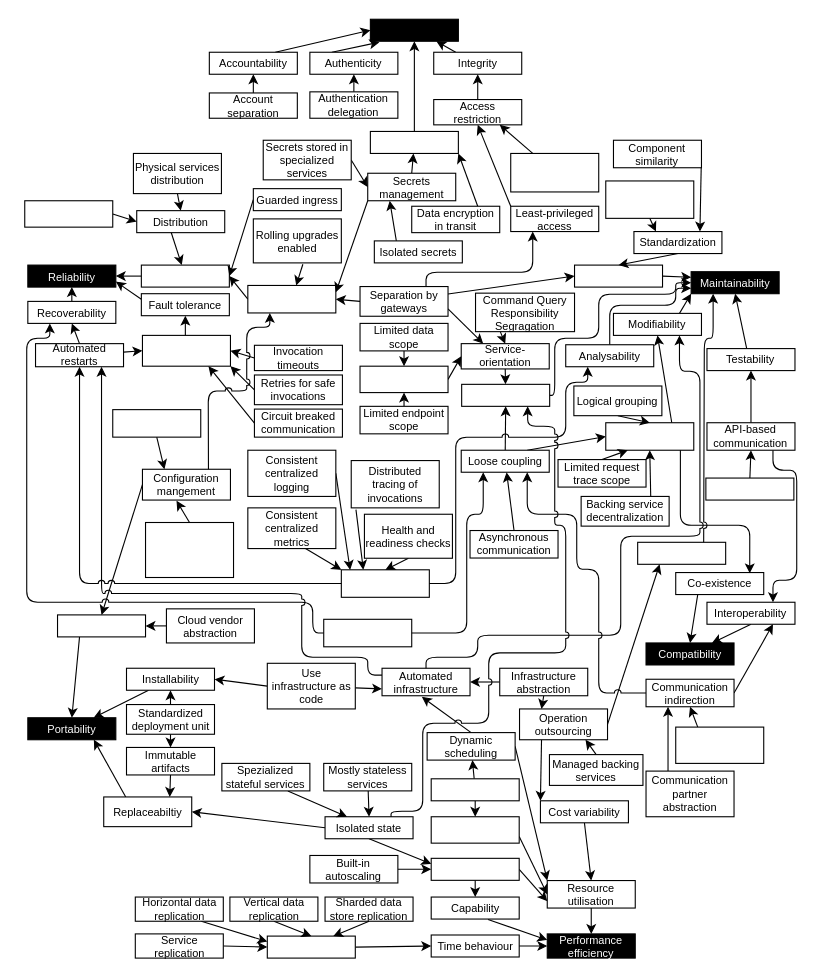
This 825x978 diagram has some shape labels left out. The box of each missing label's shape, as (x1, y1, x2, y2) in pixels:
Access control management consistency: (510, 152, 599, 192)
Adaptability: (56, 614, 146, 637)
Addressing abstraction: (675, 726, 764, 763)
Automated monitoring: (340, 569, 429, 597)
Autonomous fault handling: (141, 334, 230, 366)
Availability: (140, 264, 229, 287)
Confidentiality: (369, 130, 458, 153)
Configuration stored in specialized services: (144, 521, 234, 578)
Contract-based: (705, 477, 794, 500)
Elasticity: (430, 857, 519, 880)
Isolated configuration: (112, 409, 201, 437)
Limited functional scope: (359, 365, 448, 393)
Modularity: (461, 383, 550, 406)
Persistent communication: (323, 618, 412, 647)
Physical data distribution: (24, 200, 113, 227)
Replication: (266, 935, 355, 958)
Resource limits: (430, 778, 519, 801)
Resource predictability: (430, 816, 519, 843)
Reusability: (573, 264, 663, 287)
Seamless upgrades: (247, 284, 336, 313)
Security: (369, 18, 458, 41)
Service independence: (605, 422, 694, 450)
Simplicity: (637, 541, 726, 564)
Usage of existing solutions: (605, 180, 694, 218)
